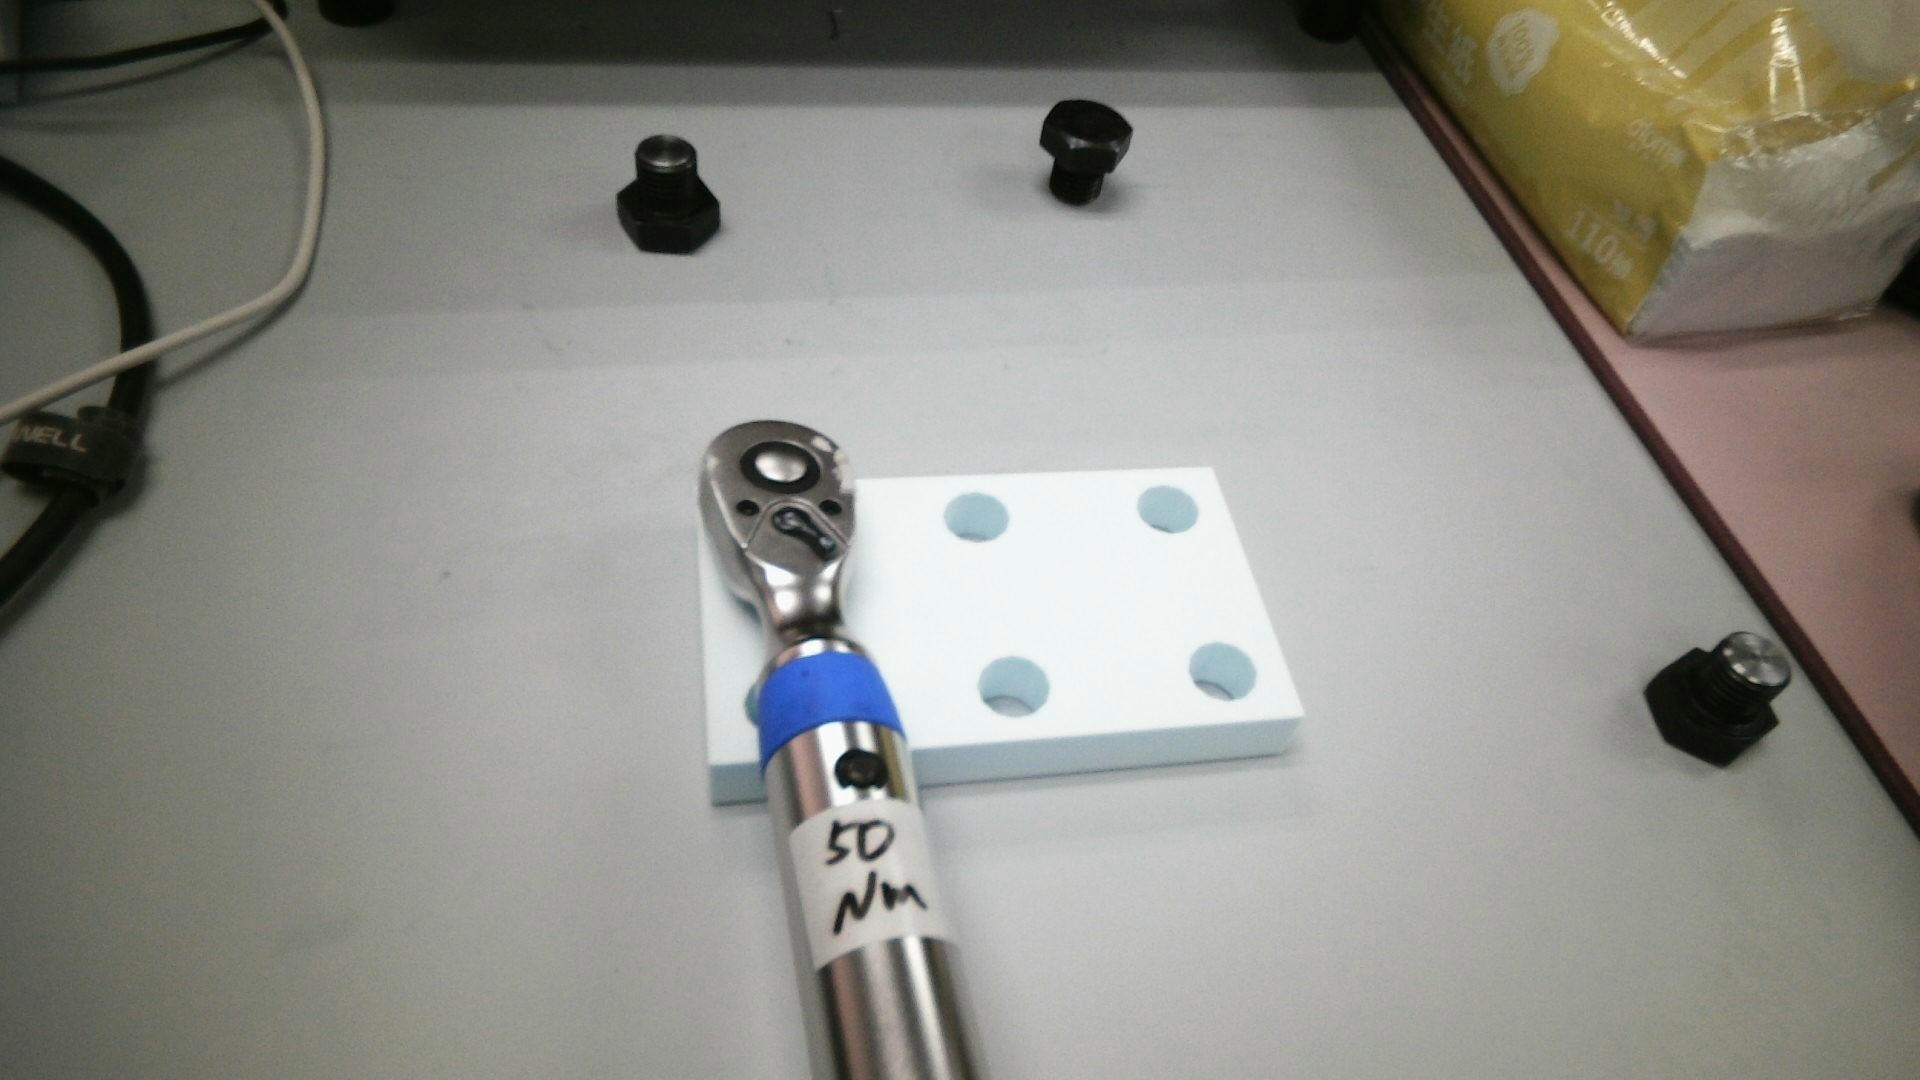hole: (977, 655, 1052, 717), (1189, 642, 1257, 703), (945, 492, 1010, 546), (1135, 487, 1201, 535), (746, 680, 765, 731)
obj: (692, 465, 1304, 808)
wrench: (738, 439, 822, 497)
